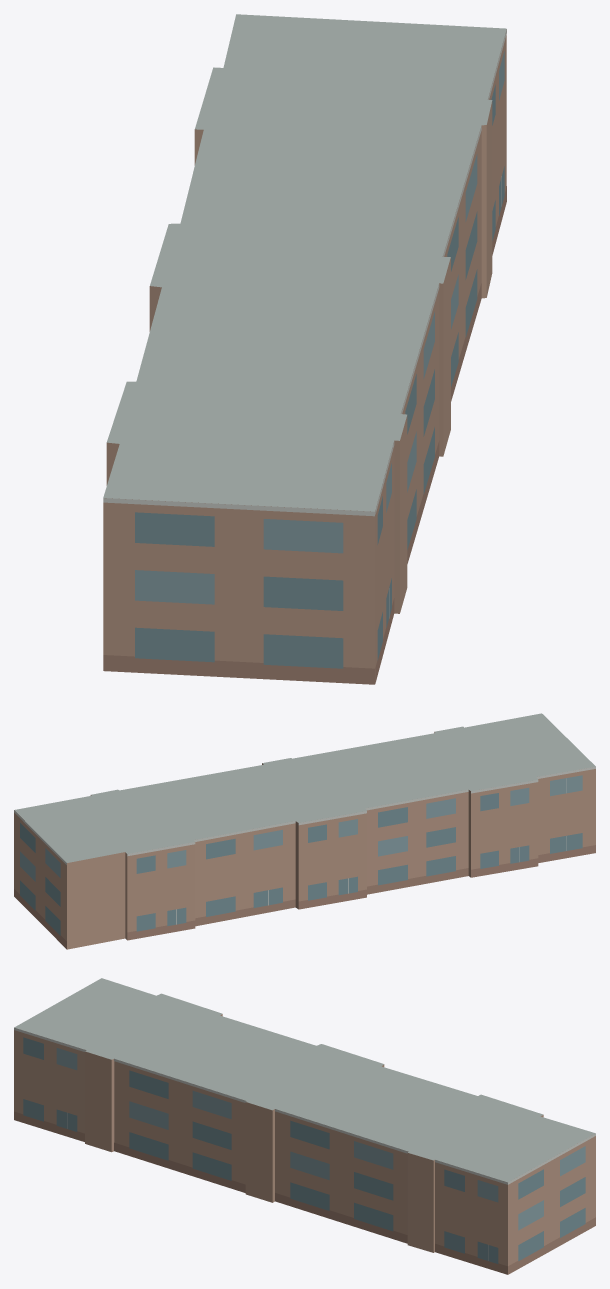
Rendered from survey-upis-32555083.glb.
3 renders of one model, top to bottom at view 1: azimuth 30°, elevation 25°; view 2: azimuth 150°, elevation 25°; view 3: azimuth 270°, elevation 25°, orthographic. The views are drawn at different scales.
Parts seen in each view (by area): view 1: survey-upis-32555083.tmp; view 2: survey-upis-32555083.tmp; view 3: survey-upis-32555083.tmp.
Part boxes in pixels (x1,y1,x2,y2): survey-upis-32555083.tmp: [103, 14, 506, 684]; survey-upis-32555083.tmp: [14, 713, 595, 949]; survey-upis-32555083.tmp: [14, 978, 595, 1274].
Bounding box in the file's own units: 43.37 × 9.15 × 52.19.
